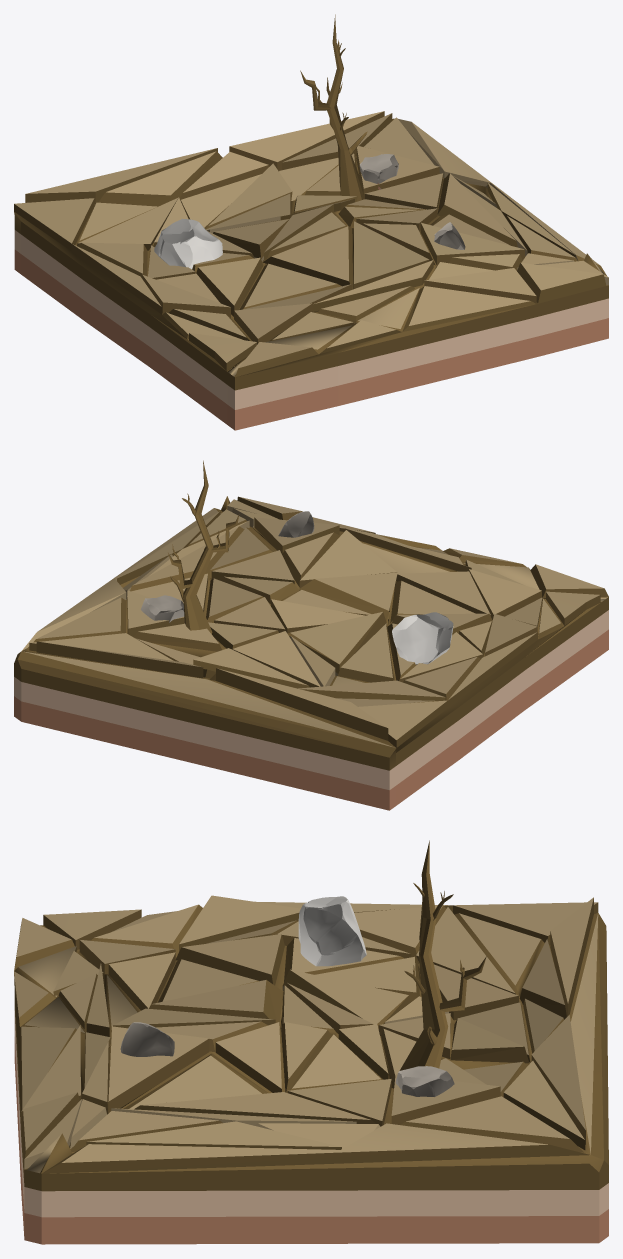
Rendered from 7_Desert.fbx.
3 renders of one model, top to bottom at view 1: azimuth 30°, elevation 25°; view 2: azimuth 150°, elevation 25°; view 3: azimuth 270°, elevation 25°, orthographic. The views are drawn at different scales.
Parts seen in each view (by area): view 1: 7_Aridlamd_Map; view 2: 7_Aridlamd_Map; view 3: 7_Aridlamd_Map.
Part boxes in pixels (x1,y1,x2,y2): 7_Aridlamd_Map: [14, 14, 608, 430]; 7_Aridlamd_Map: [14, 460, 608, 810]; 7_Aridlamd_Map: [14, 840, 608, 1244].
Bounding box in the file's own units: 0.9078 × 0.5454 × 0.9125.
